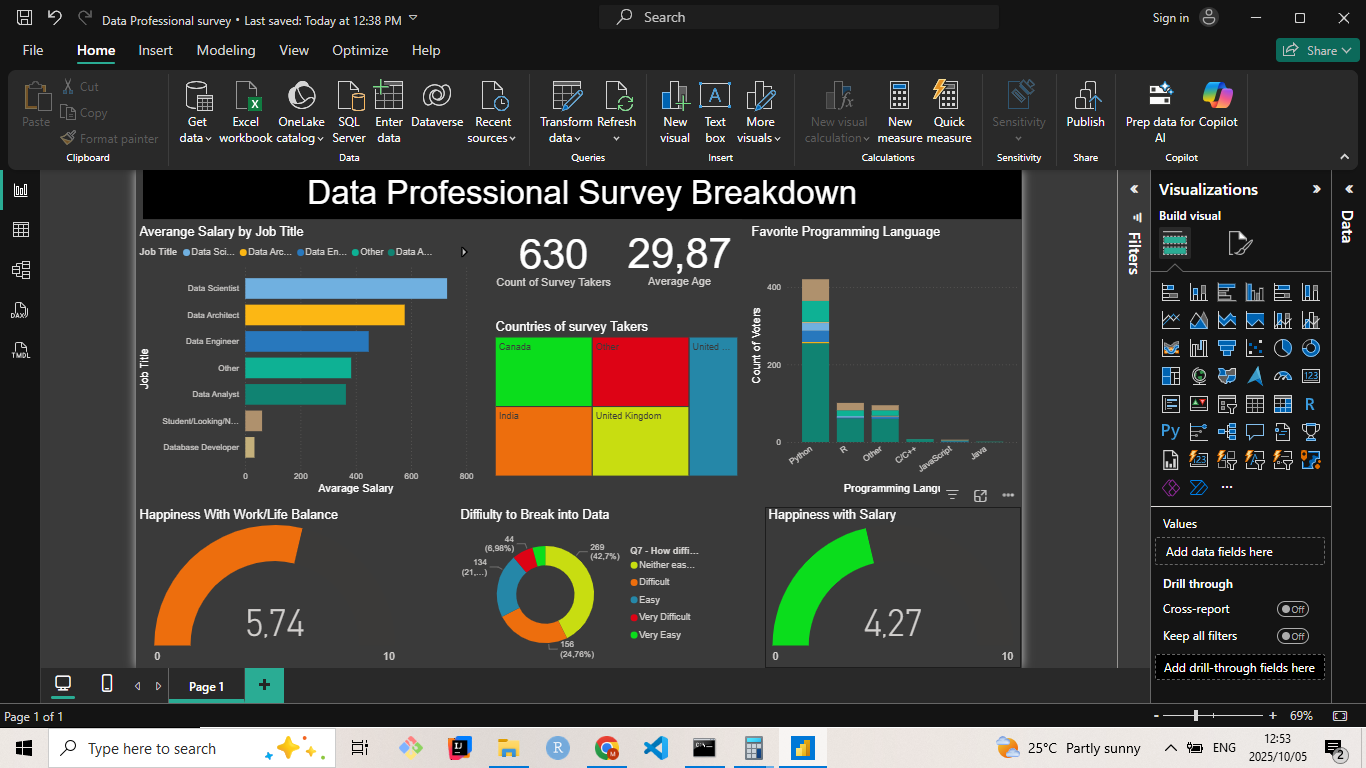

The page's visual inventory and layout, read from the dashboard file:
{"tool":"powerbi","page":{"name":"Page 1","canvas":[1280,720],"ordinal":0},"visuals":[{"type":"textbox","box":[10.1,0,1269.9,70.6],"z":0},{"type":"card","fields":{"Values":["CountNonNull(Data Professional Survey.Unique ID)"]},"box":[511.3,70.5,183.7,108.7],"z":1000},{"type":"card","fields":{"Values":["Avg(Data Professional Survey.Q10 - Current Age)"]},"box":[695,70.5,180.7,107.3],"z":2000},{"type":"barChart","title":"Averange Salary by Job Title","fields":{"Category":["Data Professional Survey.Q1 - Which Title Best Fits your Current Role?.1"],"Y":["Avg(Data Professional Survey.Avarage Salary)"],"Series":["Data Professional Survey.Q1 - Which Title Best Fits your Current Role?.1"]},"box":[0,77.9,493.7,395.3],"z":3000},{"type":"columnChart","title":"Favorite Programming Language","fields":{"Category":["Data Professional Survey.Q5 - Favorite Programming Language.1"],"Y":["CountNonNull(Data Professional Survey.Unique ID)"],"Series":["Data Professional Survey.Q1 - Which Title Best Fits your Current Role?.1"]},"box":[884.6,77.9,395.3,395.3],"z":4000},{"type":"treemap","title":"Countries of survey Takers","fields":{"Values":["Count(Data Professional Survey.Q11 - Which Country do you live in?.1)"],"Group":["Data Professional Survey.Q11 - Which Country do you live in?.1"]},"box":[514.3,216,360,232.2],"z":5000},{"type":"gauge","title":"Happiness With Work/Life Balance","fields":{"Y":["Avg(Data Professional Survey.Q6 - How Happy are you in your Current Position with the following? (Work/Life Balance))"],"MinValue":["Min(Data Professional Survey.Q6 - How Happy are you in your Current Position with the following? (Work/Life Balance))"],"MaxValue":["Max(Data Professional Survey.Q6 - How Happy are you in your Current Position with the following? (Work/Life Balance))1"]},"box":[0,487.8,401.1,232.2],"z":6000},{"type":"gauge","title":"Happiness with Salary","fields":{"Y":["Avg(Data Professional Survey.Q6 - How Happy are you in your Current Position with the following? (Salary))"],"MinValue":["Min(Data Professional Survey.Q6 - How Happy are you in your Current Position with the following? (Salary))"],"MaxValue":["Max(Data Professional Survey.Q6 - How Happy are you in your Current Position with the following? (Salary))"]},"box":[909.6,487.8,370.3,232.2],"z":7000},{"type":"donutChart","title":"Diffiulty to Break into Data","fields":{"Category":["Data Professional Survey.Q7 - How difficult was it for you to break into Data?"],"Y":["CountNonNull(Data Professional Survey.Q7 - How difficult was it for you to break into Data?)"]},"box":[464.3,487.8,361.5,232.2],"z":8000}]}

Visuals, with their boxes on the page's 1280x720 design canvas (x1, y1, x2, y2). These are canvas units, not pixel positions in the 1366x768 screenshot, which may show the page scaled, cropped or inside an application window:
textbox: x1=10 y1=0 x2=1280 y2=71
card - CountNonNull(Data Professional Survey.Unique ID): x1=511 y1=70 x2=695 y2=179
card - Avg(Data Professional Survey.Q10 - Current Age): x1=695 y1=70 x2=876 y2=178
"Averange Salary by Job Title" barChart: x1=0 y1=78 x2=494 y2=473
"Favorite Programming Language" columnChart: x1=885 y1=78 x2=1280 y2=473
"Countries of survey Takers" treemap: x1=514 y1=216 x2=874 y2=448
"Happiness With Work/Life Balance" gauge: x1=0 y1=488 x2=401 y2=720
"Happiness with Salary" gauge: x1=910 y1=488 x2=1280 y2=720
"Diffiulty to Break into Data" donutChart: x1=464 y1=488 x2=826 y2=720
